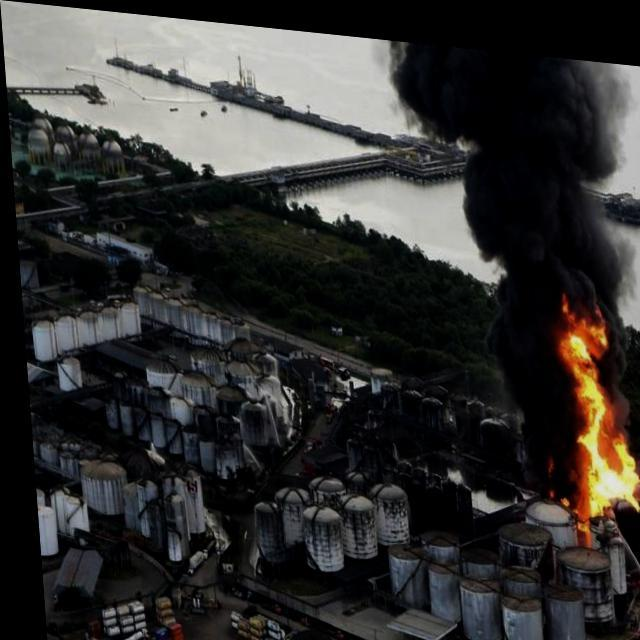Fire: (530, 269, 639, 514)
